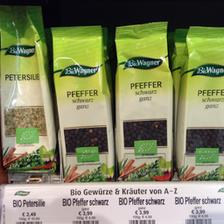Gewuerze: (48, 24, 113, 180), (113, 18, 173, 178), (0, 4, 56, 172), (174, 25, 222, 178)
